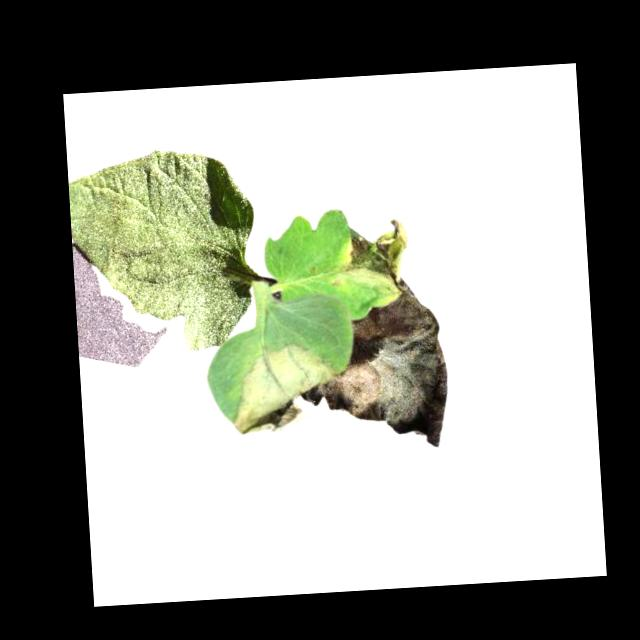Late_blight: (293, 273, 452, 457), (227, 341, 339, 440), (346, 217, 409, 295)
